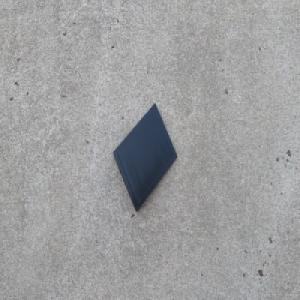PlasticPart: (112, 101, 178, 212)
